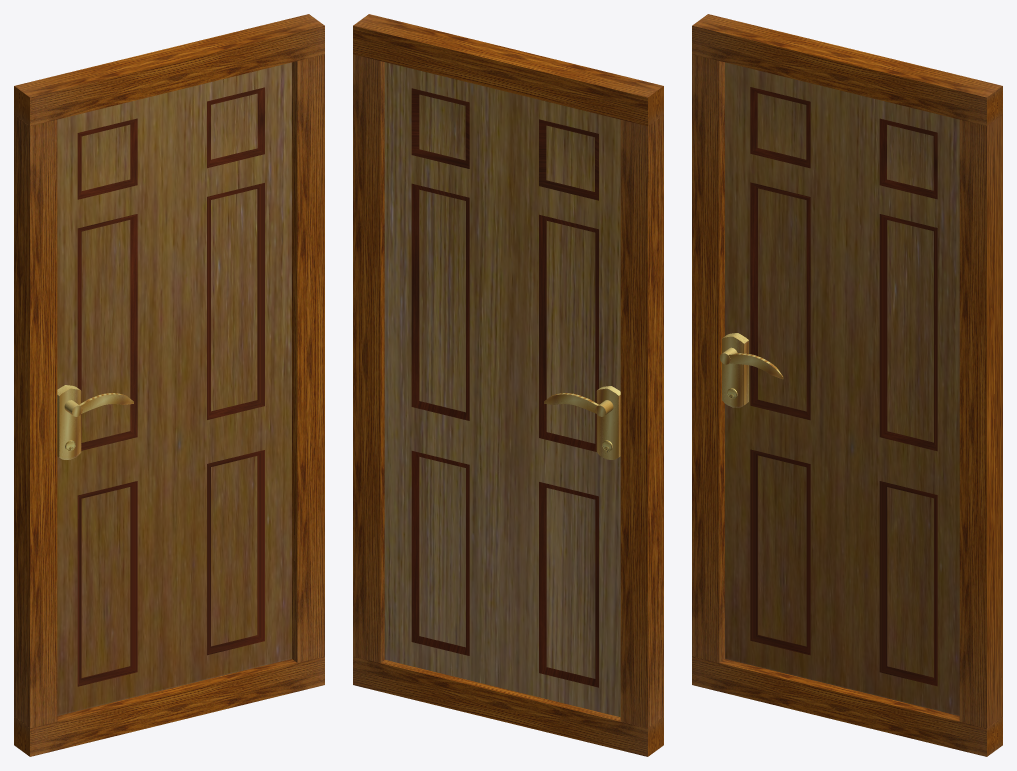
Rendered from dor.glb.
The picture shows the model from 3 angles, left to right: view 1: azimuth 30°, elevation 25°; view 2: azimuth 150°, elevation 25°; view 3: azimuth 330°, elevation 25°; orthographic projection.
Visible parts, largest first — view 1: pCube5, polySurface1, Door; view 2: pCube5, polySurface1, Door; view 3: pCube5, polySurface1, Door.
Boxes of the visible parts, x1=… form: pCube5: x1=57, y1=62, x2=291, y2=715; polySurface1: x1=14, y1=14, x2=324, y2=756; Door: x1=57, y1=385, x2=133, y2=459; pCube5: x1=384, y1=62, x2=620, y2=717; polySurface1: x1=353, y1=14, x2=663, y2=756; Door: x1=544, y1=386, x2=620, y2=459; pCube5: x1=725, y1=62, x2=959, y2=715; polySurface1: x1=692, y1=14, x2=1002, y2=756; Door: x1=719, y1=333, x2=783, y2=407.
Size of the model in its own units: 20.54 by 43.89 by 3.66.
Materials: 7 (5 with a texture image).
